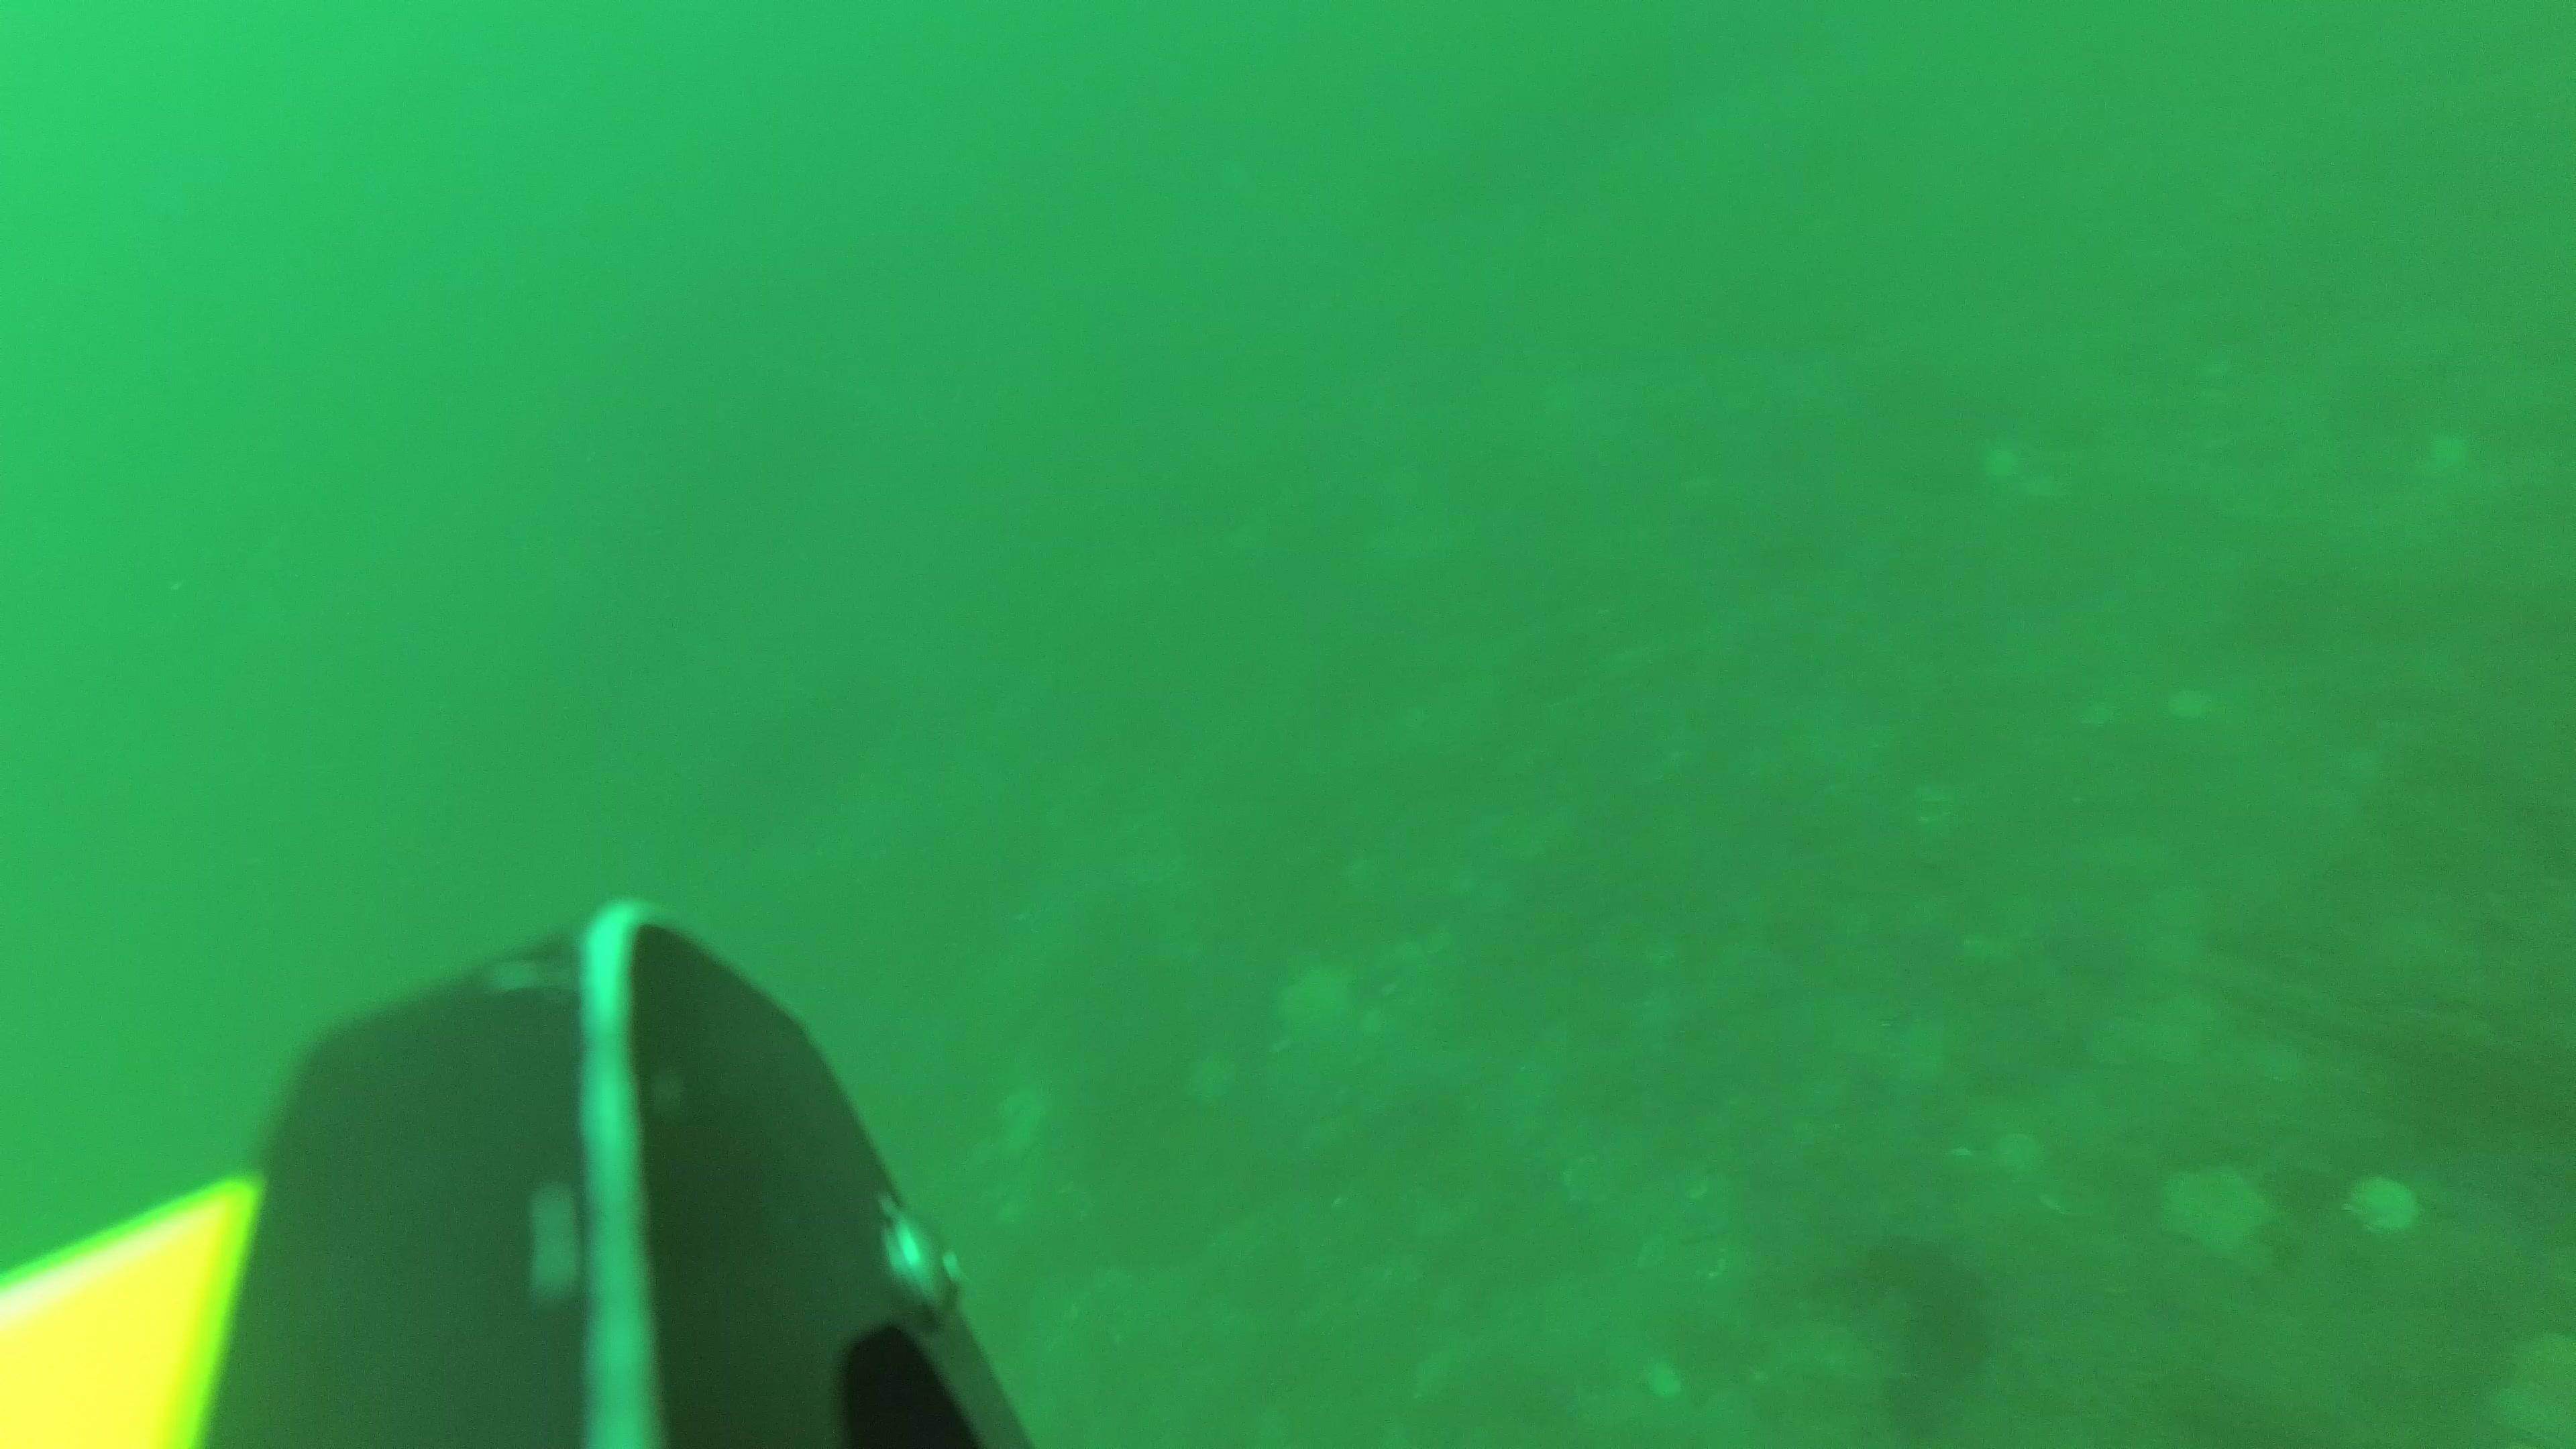scallop: (2342, 1166, 2426, 1244)
starfish: (2153, 1154, 2273, 1270), (1274, 959, 1364, 1053)
